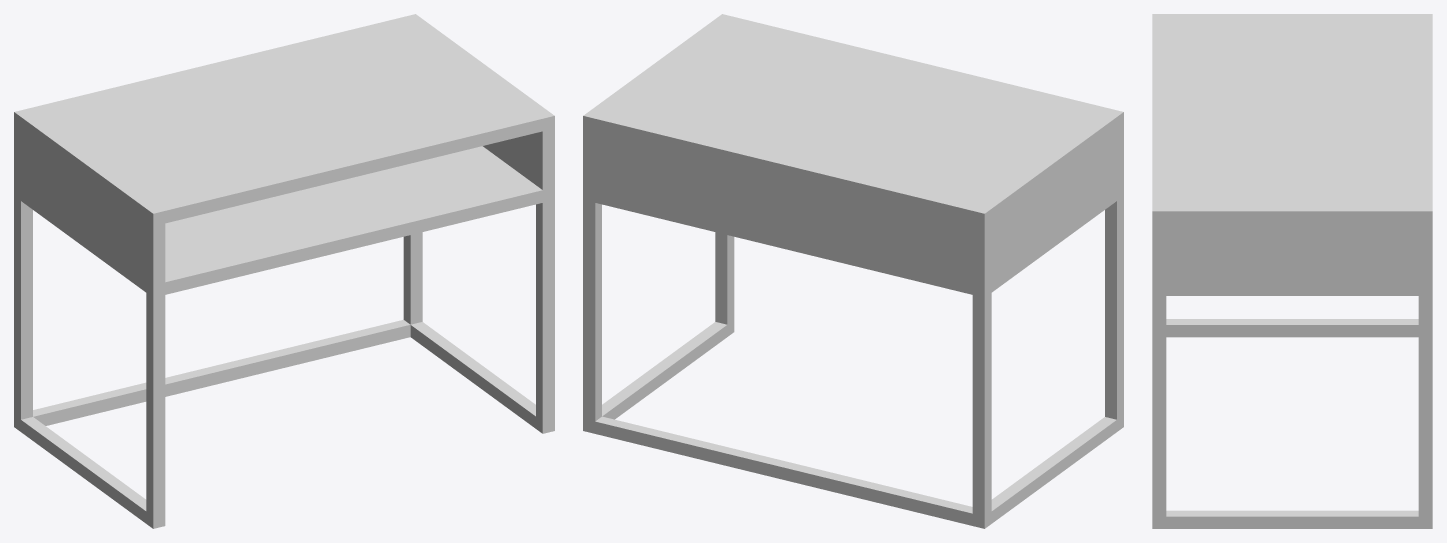
Rendered from PC_Table2_C1.fbx.
3 renders of one model, left to right at view 1: azimuth 30°, elevation 25°; view 2: azimuth 150°, elevation 25°; view 3: azimuth 270°, elevation 25°, orthographic.
Parts seen in each view (by area): view 1: PC_Table2_C1; view 2: PC_Table2_C1; view 3: PC_Table2_C1.
Part boxes in pixels (x1=…): PC_Table2_C1: x1=14, y1=14, x2=554, y2=528; PC_Table2_C1: x1=583, y1=14, x2=1123, y2=528; PC_Table2_C1: x1=1152, y1=14, x2=1432, y2=528.
Bounding box in the file's own units: 100 × 75 × 60.
